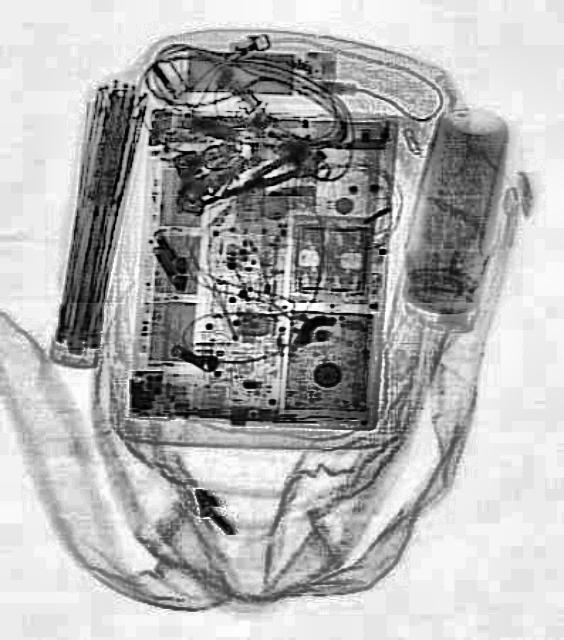Pliers: (221, 146, 305, 204)
